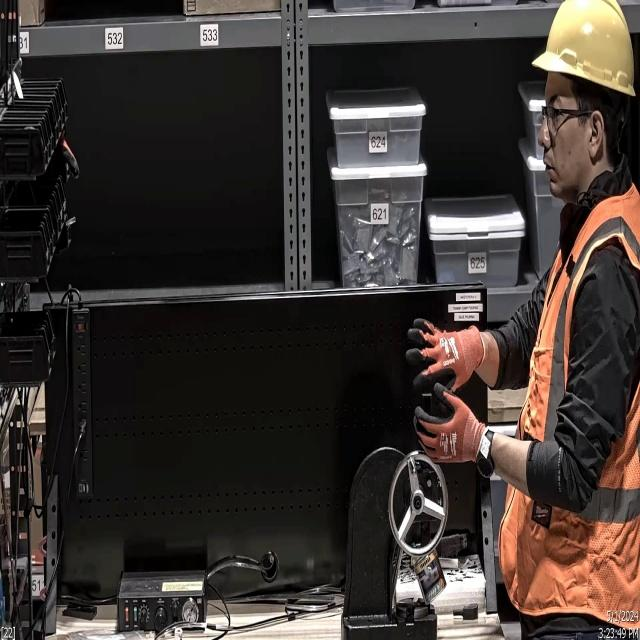construction-gloves: (404, 316, 488, 404), (414, 381, 485, 472)
